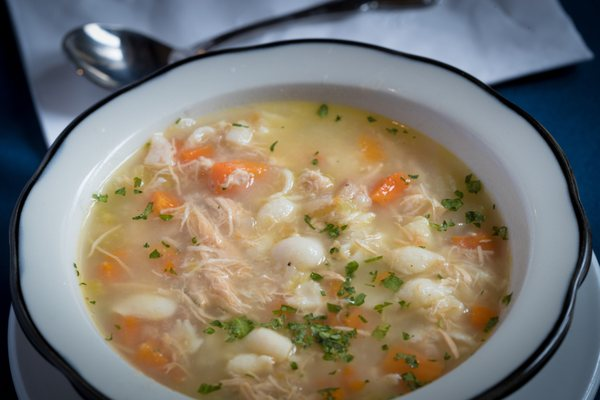curry: (286, 311, 357, 361)
sushi: (13, 35, 590, 391)
